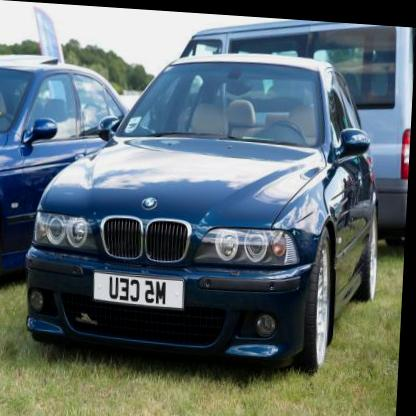License_Plate: (93, 268, 188, 312)
